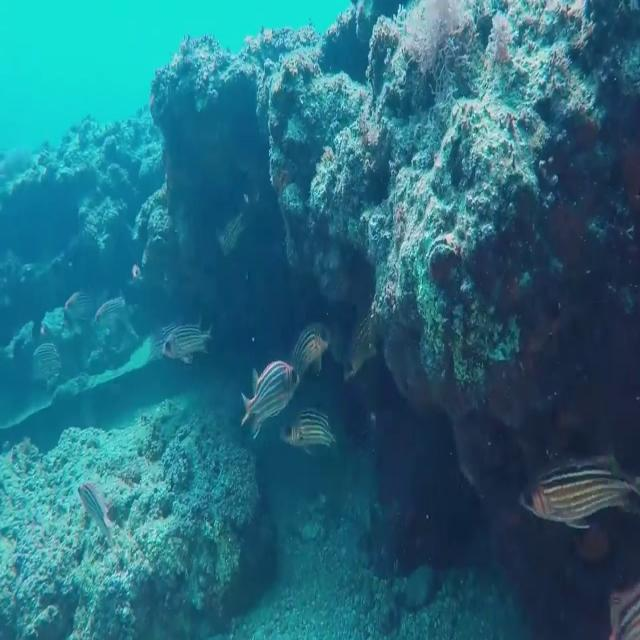Asker Baligi: (238, 323, 329, 441)
